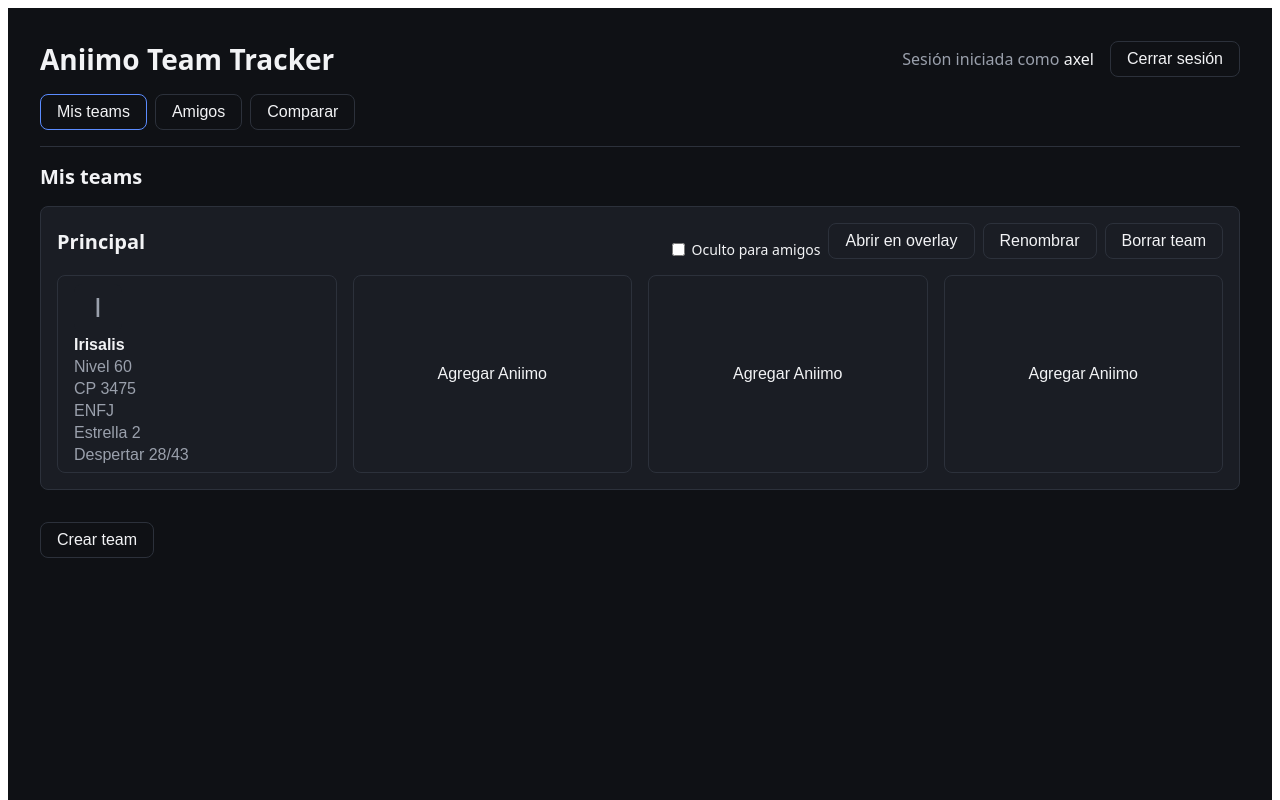
Test: ficha guardada › guardar con exito vuelve a Mis teams y muestra Ficha guardada
Expected: the heading "Mis teams" is shown, [40,163,142,190]
Click the button "I Irisalis Nivel 60 CP 3475 ENFJ Estrella 2 Despertar 28/43" at (98, 308), box [57,275,336,473]
(page scrolled)
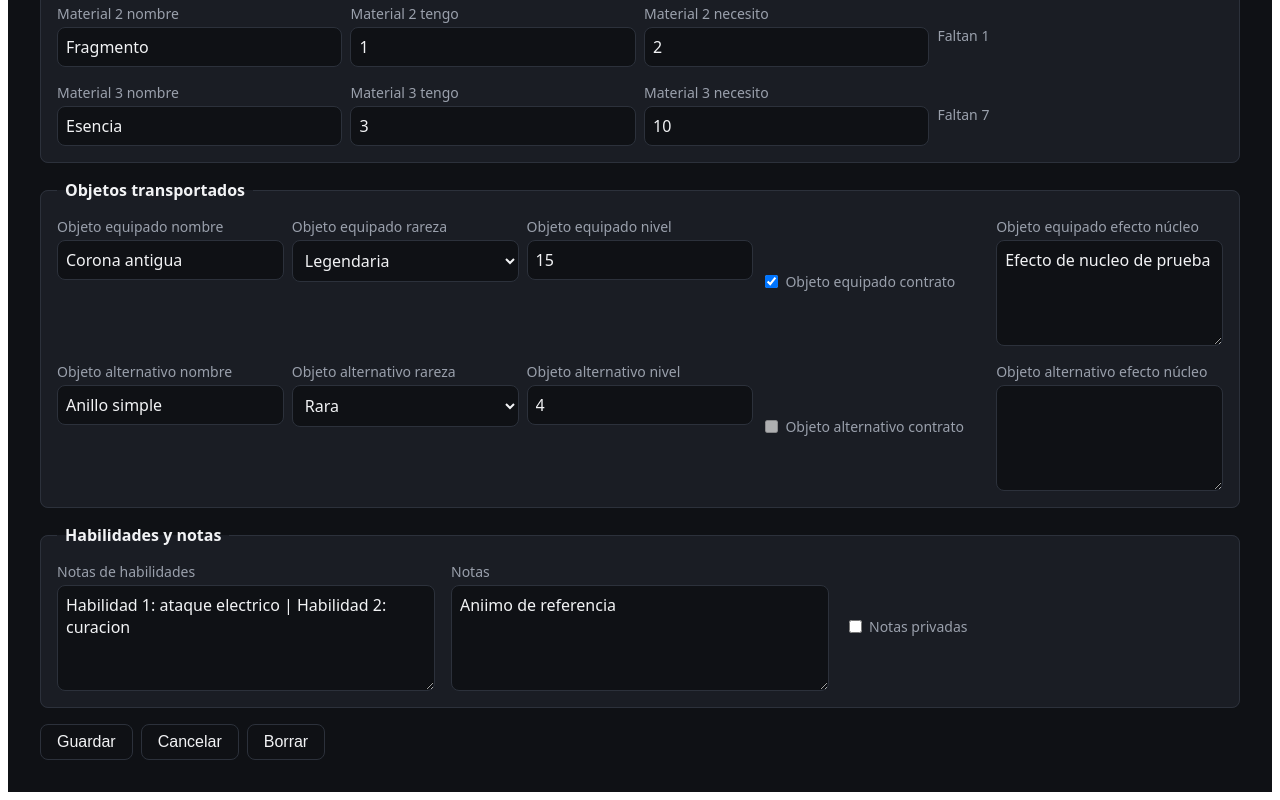
Click the button "Guardar" at (86, 742), box [40,724,133,760]
(page scrolled)
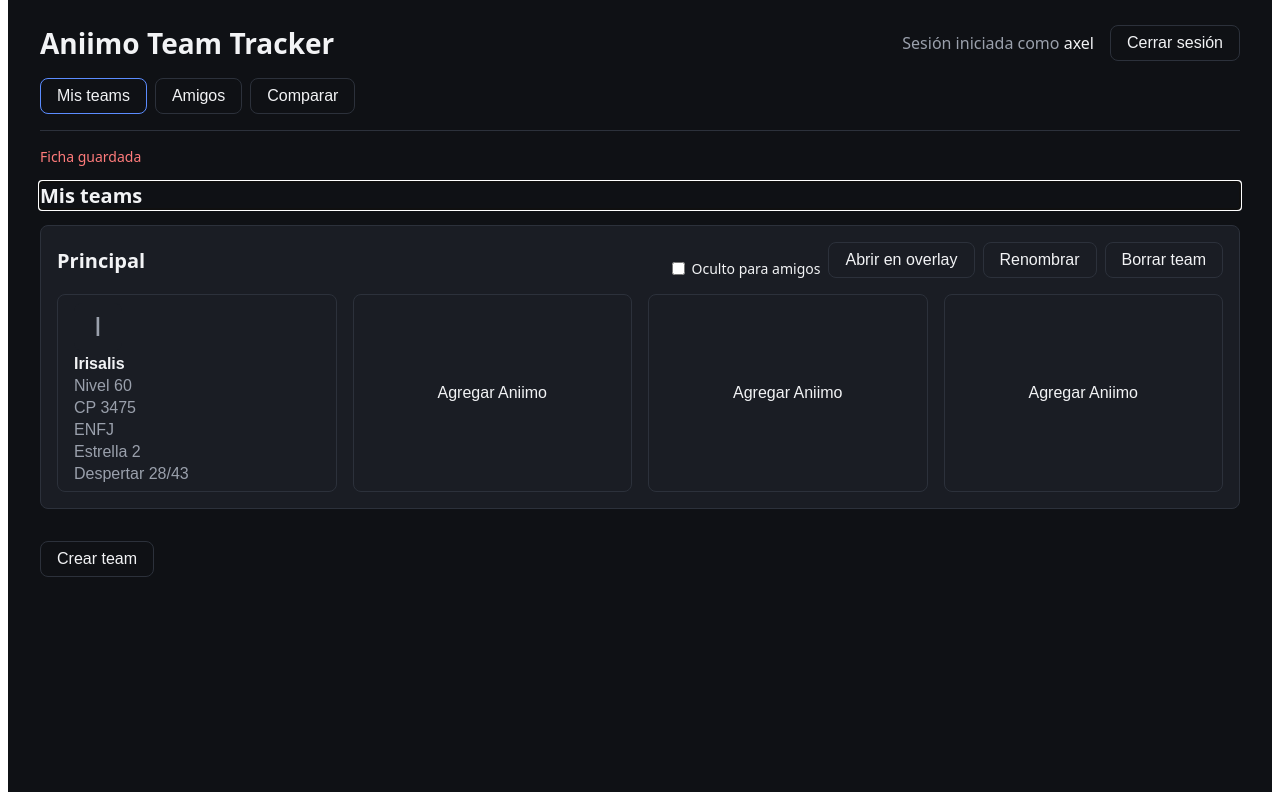
Expected: the heading "Mis teams" is shown, [40,182,142,209]
Expected: the message reads "Ficha guardada", [40,147,141,166]
